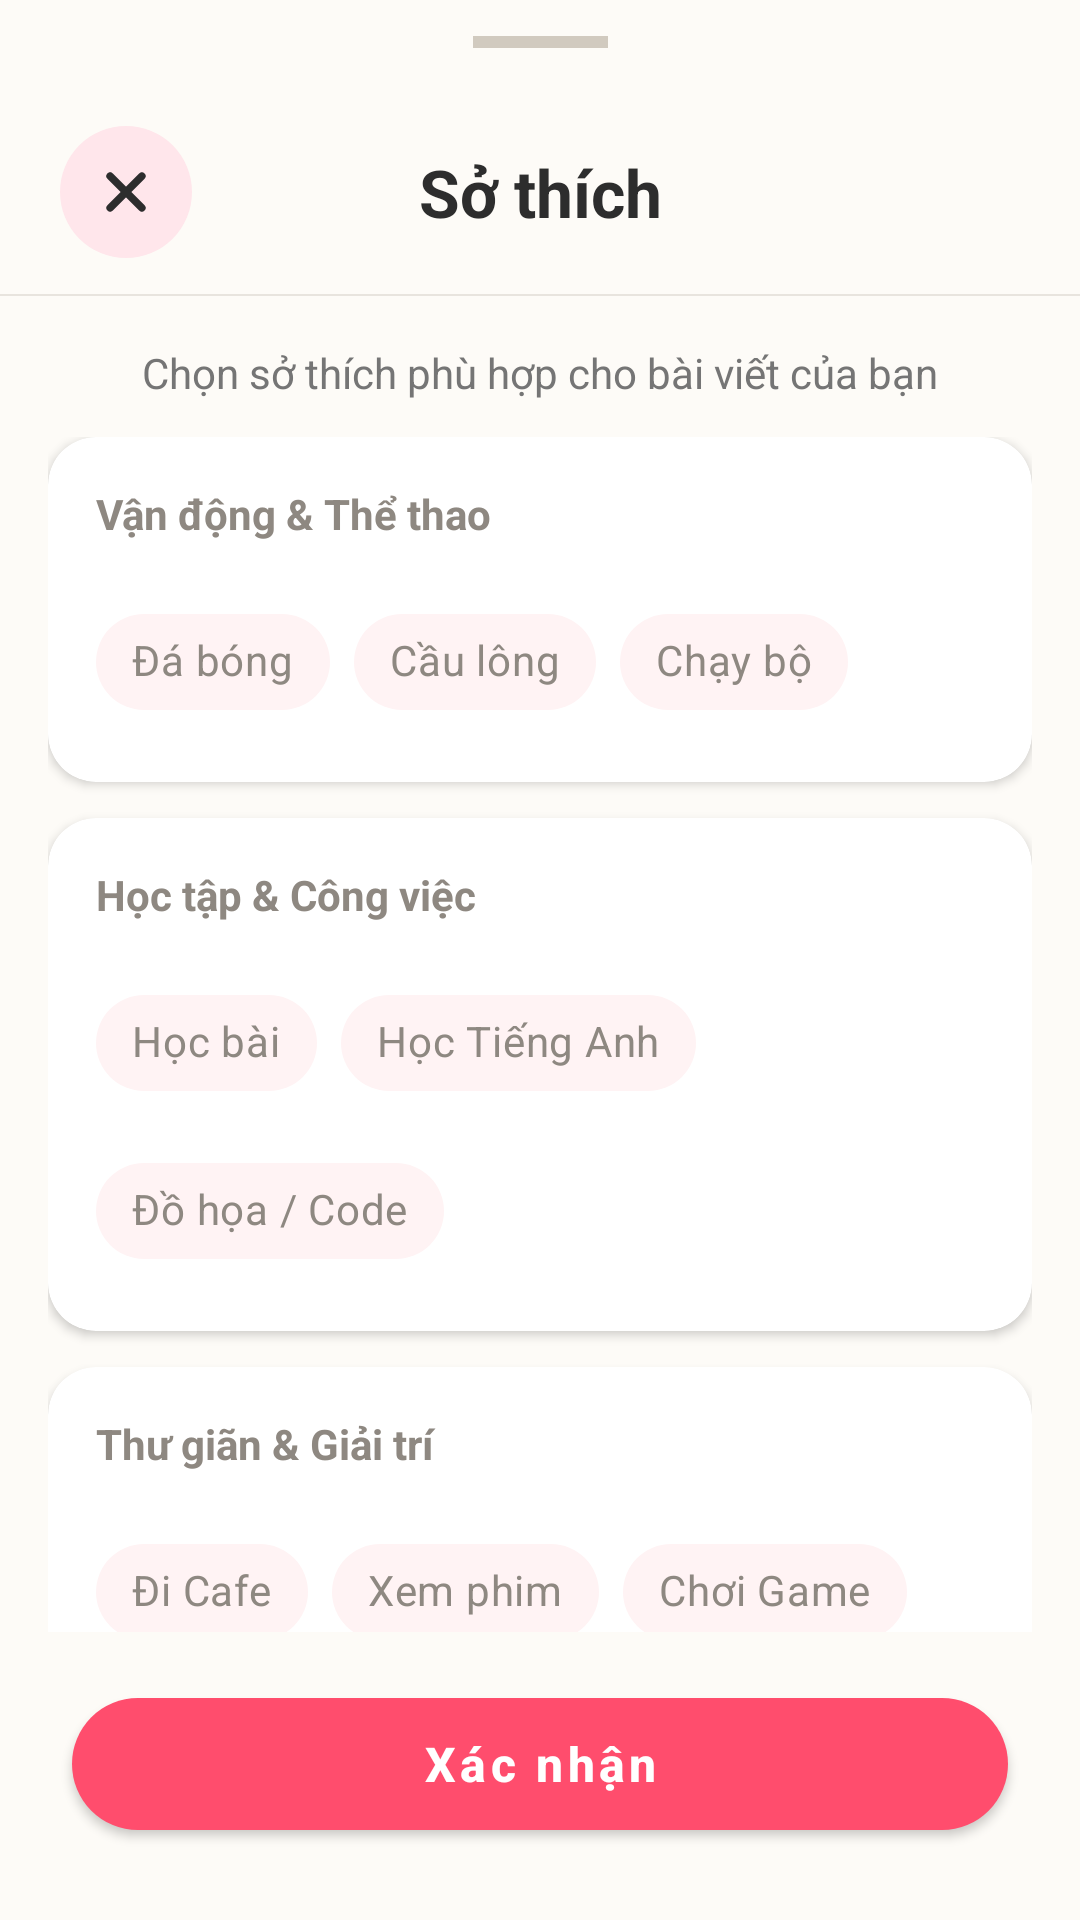

Locate icon controls on the screen. Image size 1080*1920, boxes as [x1,y1,x2,y2].
Đóng: [106,172,146,212]
